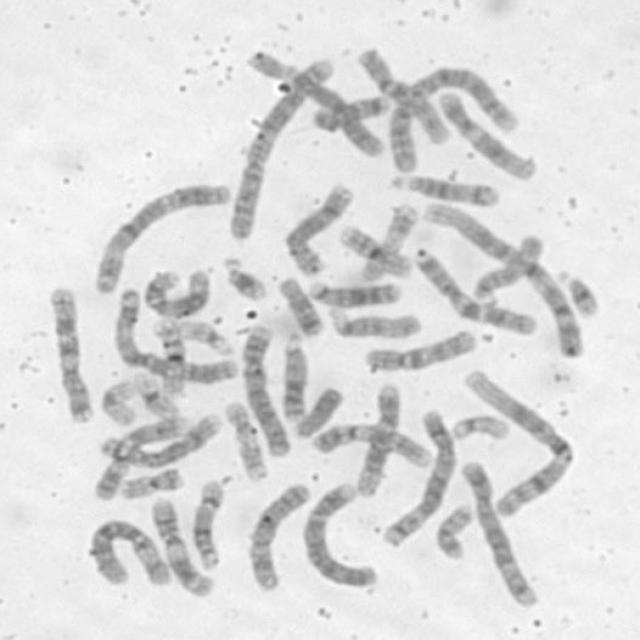A1: (417, 194, 589, 358), (458, 362, 579, 519)
A2: (220, 51, 336, 242), (378, 62, 522, 175)
A3: (89, 175, 235, 295), (107, 282, 241, 386)
B4: (298, 477, 380, 589), (235, 321, 293, 457)
B5: (455, 453, 544, 610), (374, 402, 458, 549)
C10: (352, 42, 452, 146), (358, 323, 479, 373)
C11: (145, 491, 218, 598), (139, 264, 214, 320)
C12: (436, 85, 542, 183), (348, 378, 404, 499)
C6: (240, 42, 387, 161), (84, 514, 175, 590)
C7: (410, 241, 543, 335), (43, 280, 96, 425)
C8: (276, 178, 357, 278), (94, 407, 226, 468)
C9: (90, 408, 193, 502), (305, 416, 437, 471)
D13: (302, 274, 402, 308), (275, 329, 310, 423)
D14: (387, 168, 502, 208), (186, 474, 228, 572)
D15: (465, 227, 546, 305), (322, 301, 424, 340)
E16: (333, 219, 414, 279), (146, 312, 187, 396)
E17: (358, 199, 421, 283), (218, 396, 270, 482)
E18: (309, 90, 394, 134), (274, 271, 327, 338)
F19: (129, 368, 184, 419), (96, 376, 140, 428)
F20: (430, 498, 476, 561), (114, 462, 185, 500)
G21: (549, 262, 602, 320), (218, 250, 270, 303)
G22: (174, 314, 237, 356), (446, 408, 512, 442)
X: (242, 478, 313, 594)
Y: (287, 380, 346, 441)
